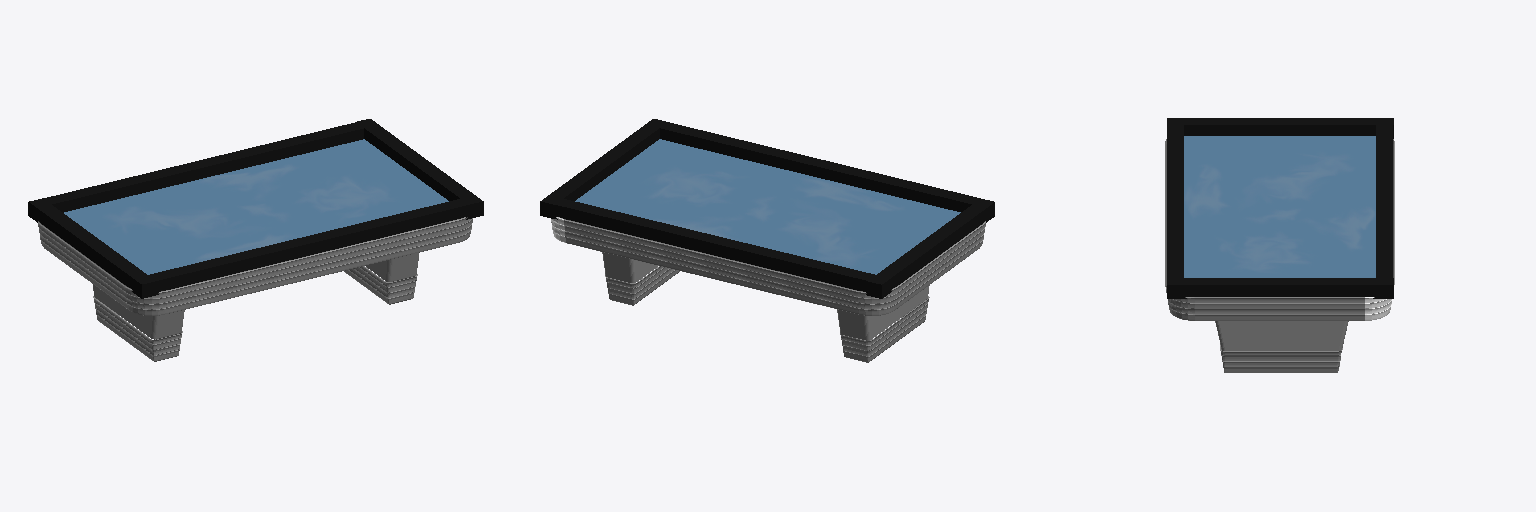
3 renders of one model, left to right at view 1: azimuth 30°, elevation 25°; view 2: azimuth 150°, elevation 25°; view 3: azimuth 270°, elevation 25°, orthographic.
Visible parts, largest first — view 1: objobjobjBox01, objobjobjobjSIDE01, objBox01, objBox02, objobjobjobjleg01, objBox04, objBox03, objobjobjobjleg02, objobjobjobjSIDE04, objobjobjobjCORNER04; view 2: objobjobjBox01, objobjobjobjSIDE02, objBox02, objBox01, objobjobjobjleg01, objBox04, objBox03, objobjobjobjleg02, objobjobjobjSIDE04, objobjobjobjCORNER03; view 3: objobjobjBox01, objobjobjobjleg02, objBox03, objobjobjobjSIDE03, objBox04, objBox01, objBox02, objobjobjobjCORNER02, objobjobjobjCORNER01.
Boxes of the visible parts, <box> form: objobjobjBox01: <box>64,139,448,274</box>; objobjobjobjSIDE01: <box>165,219,459,313</box>; objBox01: <box>134,199,470,294</box>; objBox02: <box>37,119,375,212</box>; objobjobjobjleg01: <box>93,284,184,361</box>; objBox04: <box>28,198,155,298</box>; objBox03: <box>357,119,483,218</box>; objobjobjobjleg02: <box>344,253,418,304</box>; objobjobjobjSIDE04: <box>41,224,128,309</box>; objobjobjobjCORNER04: <box>126,286,165,315</box>; objobjobjBox01: <box>575,139,960,274</box>; objobjobjobjSIDE02: <box>564,219,858,314</box>; objBox02: <box>546,196,888,294</box>; objBox01: <box>650,119,993,211</box>; objobjobjobjleg01: <box>837,285,929,362</box>; objBox04: <box>867,199,994,298</box>; objBox03: <box>540,119,663,218</box>; objobjobjobjleg02: <box>602,252,679,305</box>; objobjobjobjSIDE04: <box>895,225,982,309</box>; objobjobjobjCORNER03: <box>858,286,897,315</box>; objobjobjBox01: <box>1184,136,1375,277</box>; objobjobjobjleg02: <box>1215,321,1348,372</box>; objBox03: <box>1167,278,1393,298</box>; objobjobjobjSIDE03: <box>1195,297,1364,320</box>; objBox04: <box>1167,118,1393,138</box>; objBox01: <box>1167,119,1183,281</box>; objBox02: <box>1376,119,1392,283</box>; objobjobjobjCORNER02: <box>1165,285,1194,320</box>; objobjobjobjCORNER01: <box>1365,285,1394,320</box>.
Size of the model in its own units: 106 by 31.87 by 61.01.
Materials: 4 (1 with a texture image).